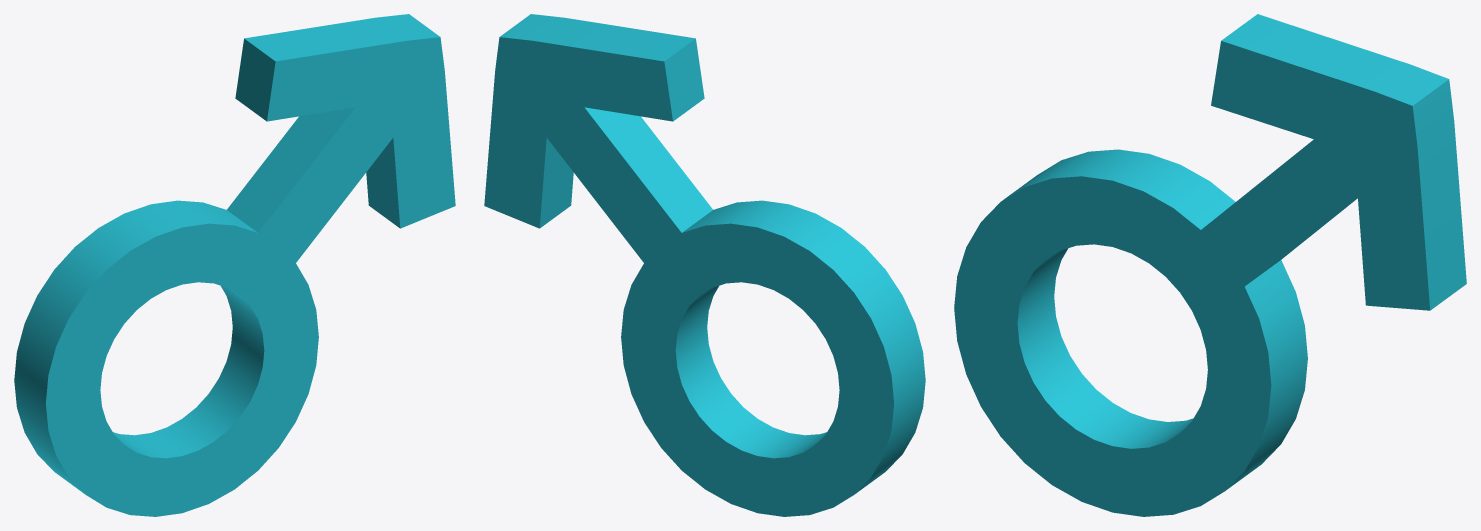
File: male_sign.gltf
3 renders of one model, left to right at view 1: azimuth 30°, elevation 25°; view 2: azimuth 150°, elevation 25°; view 3: azimuth 330°, elevation 25°, orthographic. The views are drawn at different scales.
Parts seen in each view (by area): view 1: Circle.2635; view 2: Circle.2635; view 3: Circle.2635.
Boxes of the visible parts, box(x1,y1,x2,y2) form: Circle.2635: box(14, 14, 455, 516); Circle.2635: box(484, 14, 925, 516); Circle.2635: box(954, 14, 1466, 516).
Bounding box in the file's own units: 1.8 × 1.8 × 0.24.
1 material, 1 textured.
